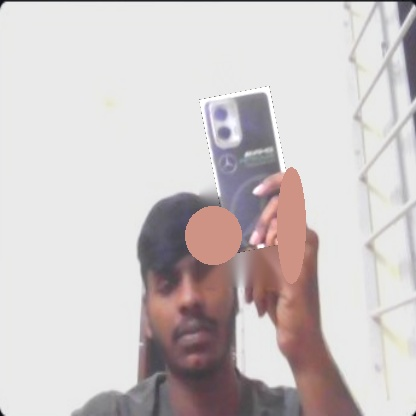cell_phone: (199, 86, 300, 254)
